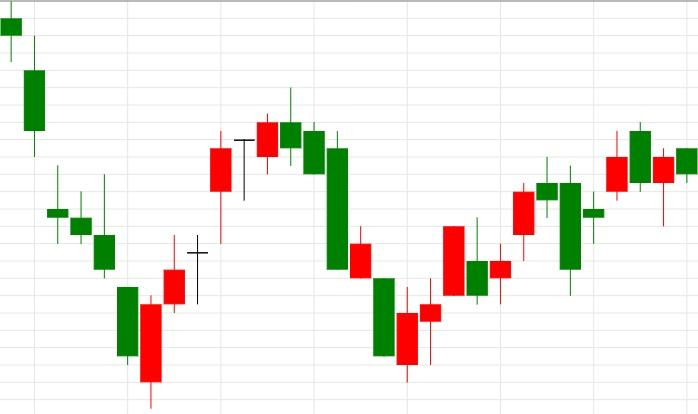inverse_hammer_rise: (1, 1, 115, 279)
